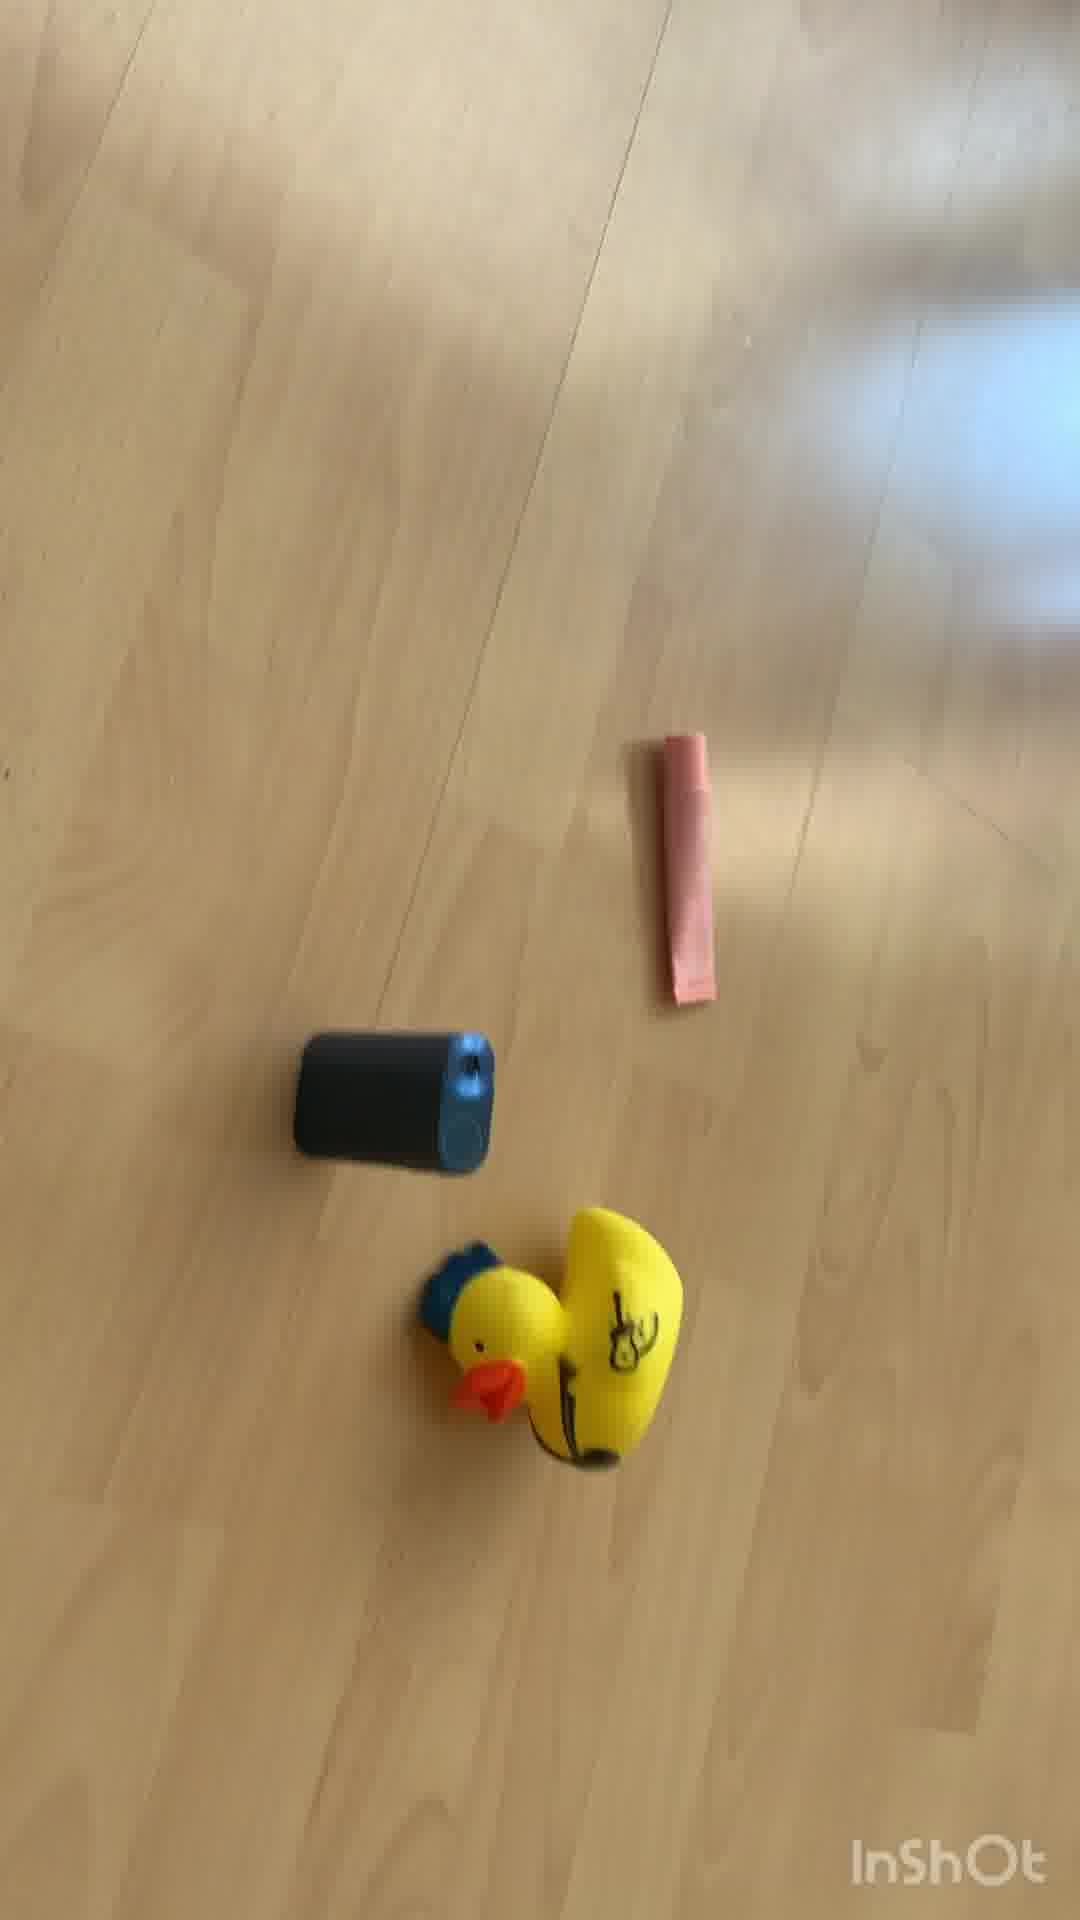duck: (423, 1200, 698, 1495)
glo: (282, 1018, 510, 1182)
lip balm: (654, 727, 721, 1015)
